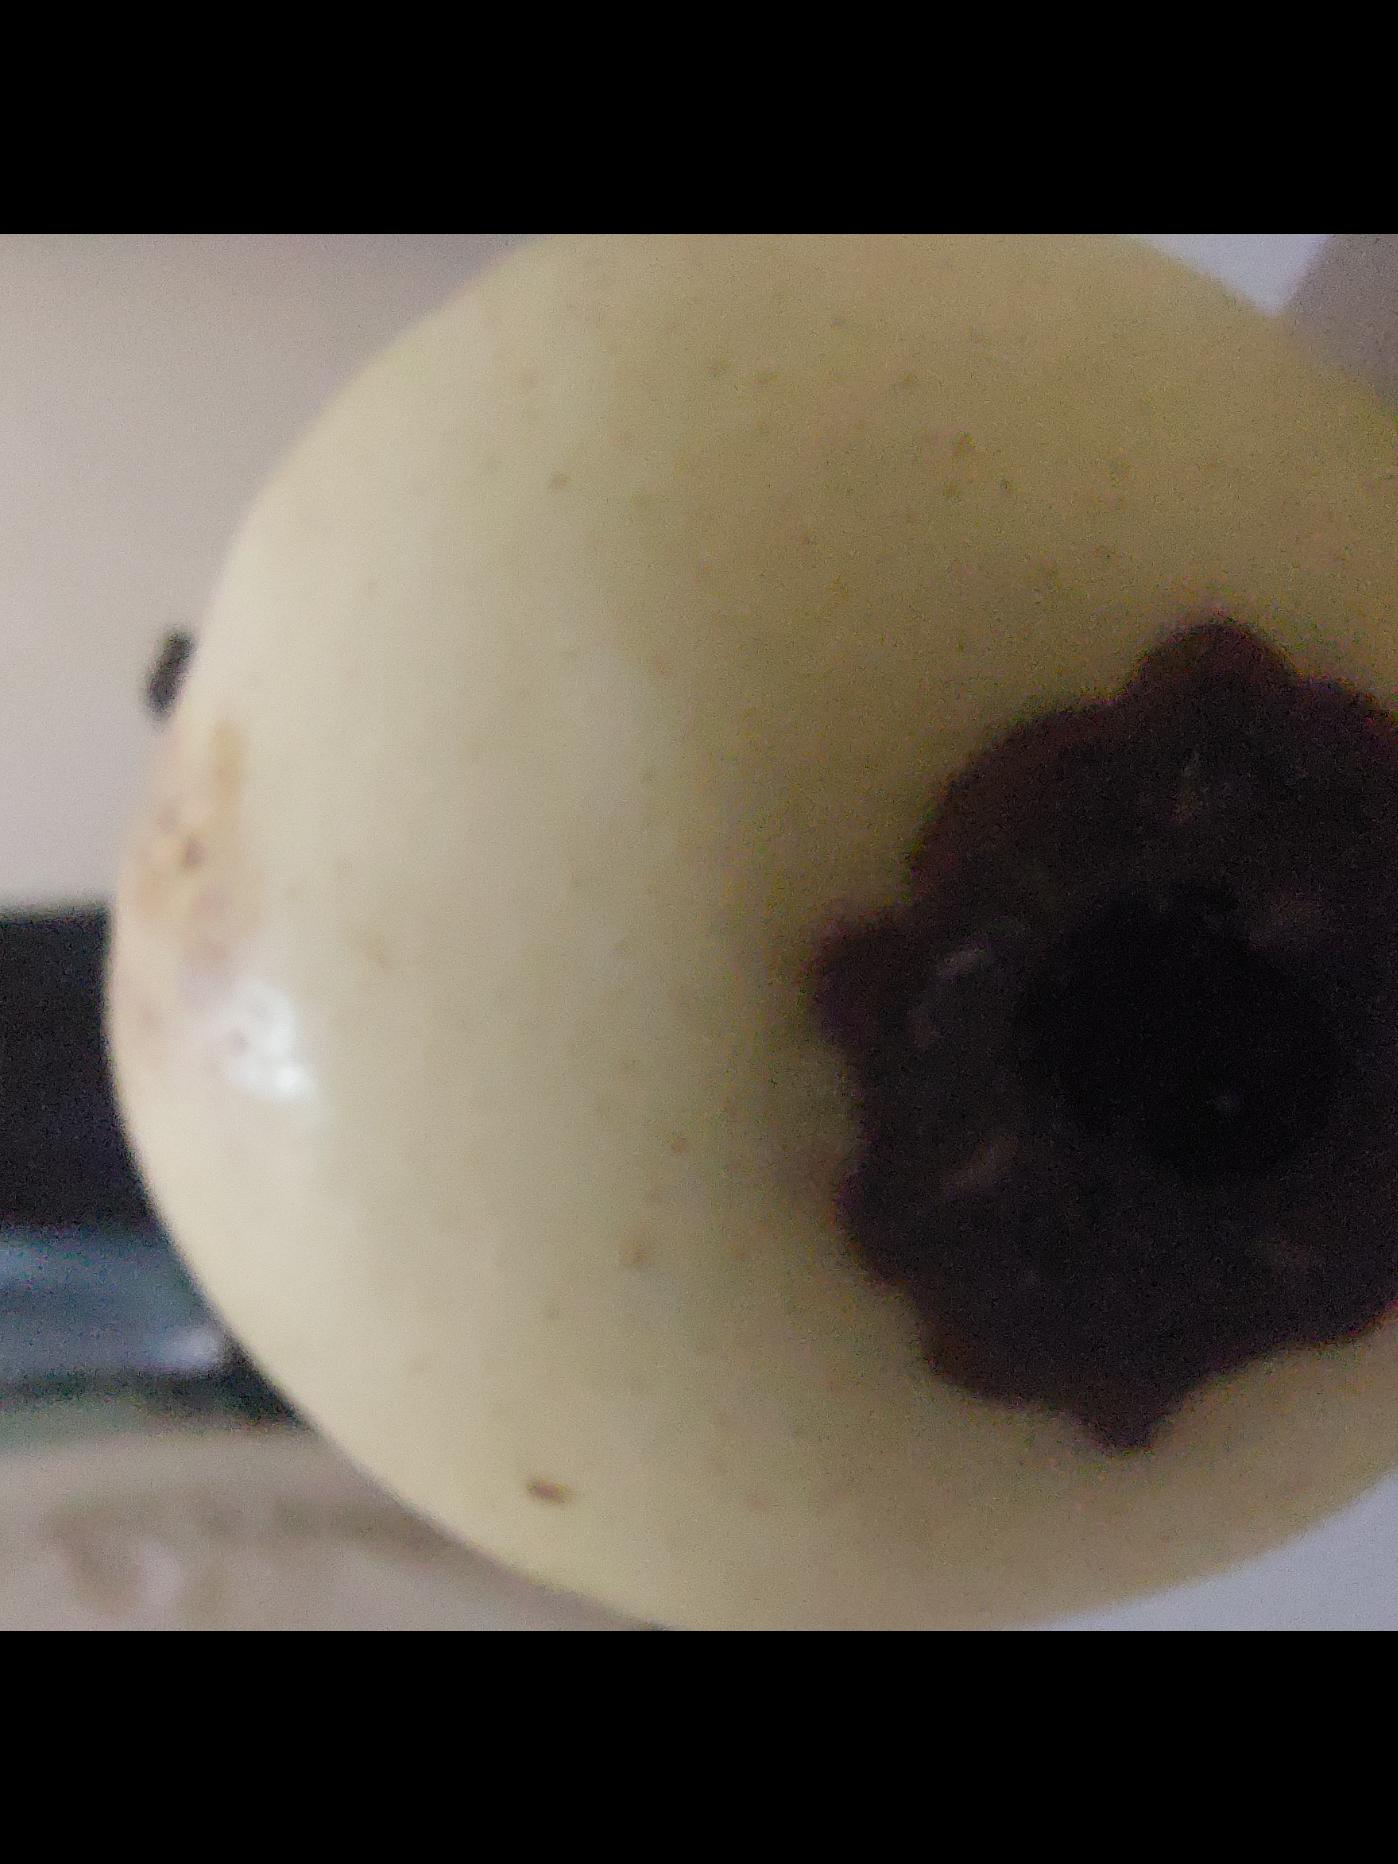Bad Pear: (95, 233, 1398, 1631)
